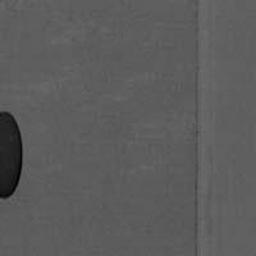Punching: (0, 111, 24, 200)
